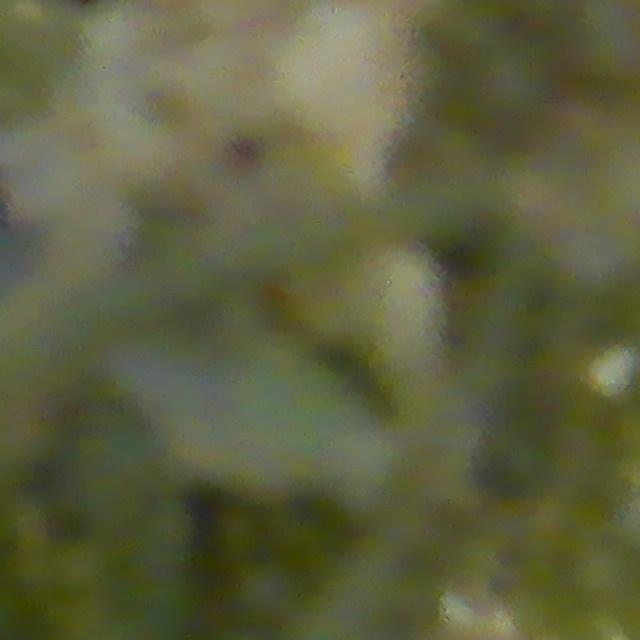SeaGrape: (570, 540, 637, 605)
